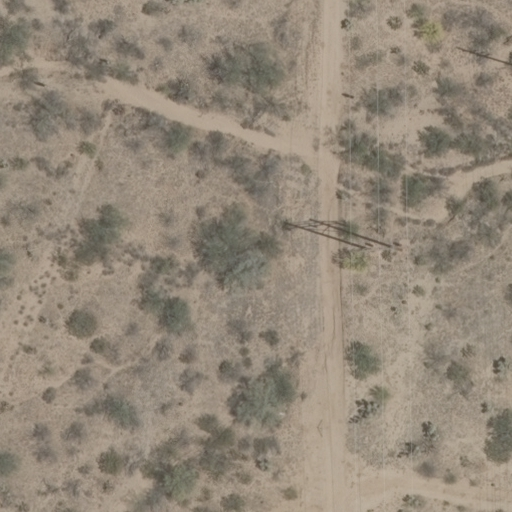DT: (335, 237, 423, 262)
